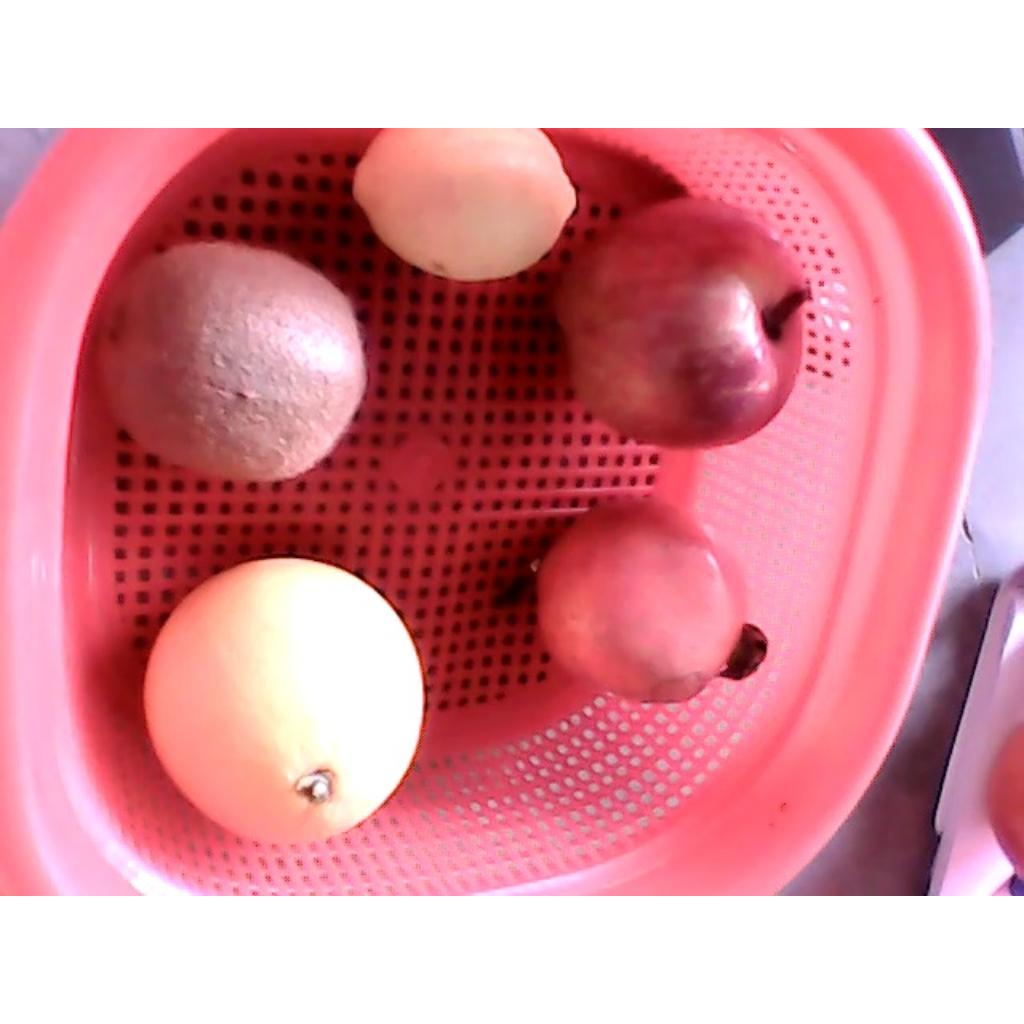apple: (552, 196, 812, 451)
kiwi: (101, 240, 365, 483)
lemon: (354, 129, 578, 282)
orange: (139, 557, 425, 845)
pomegranate: (531, 492, 767, 702)
